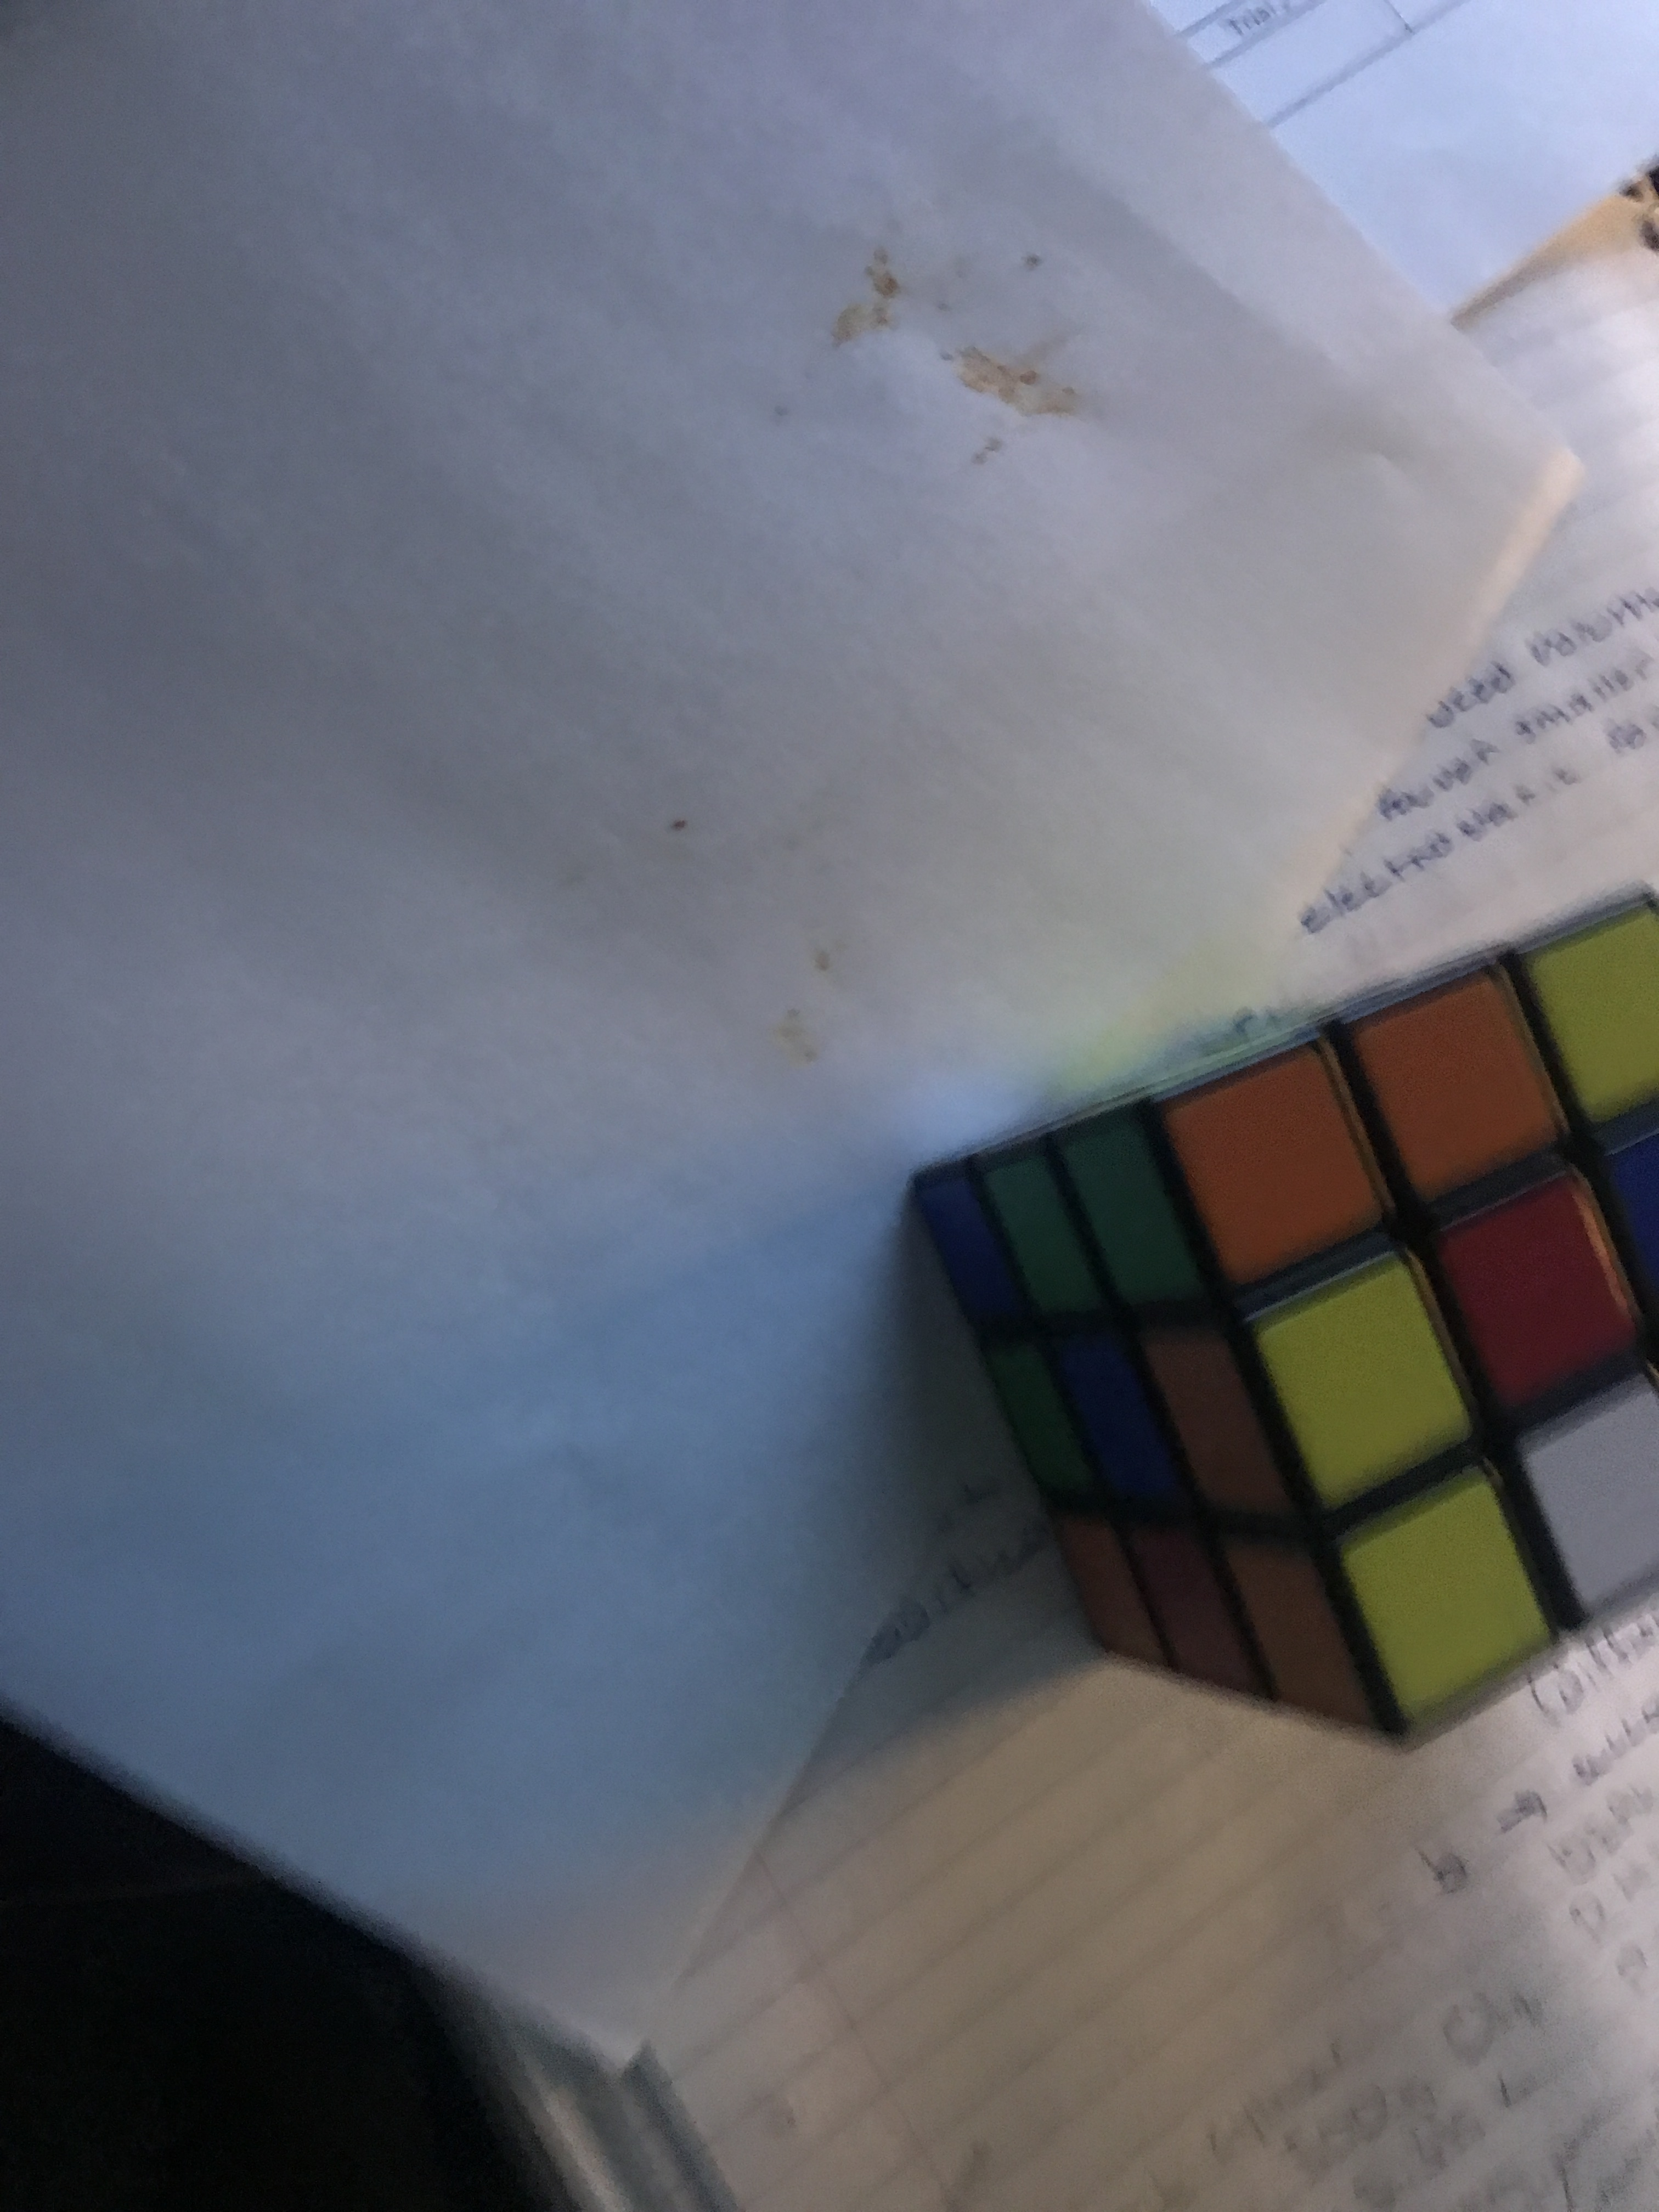rubiks: (901, 874, 1659, 1752)
